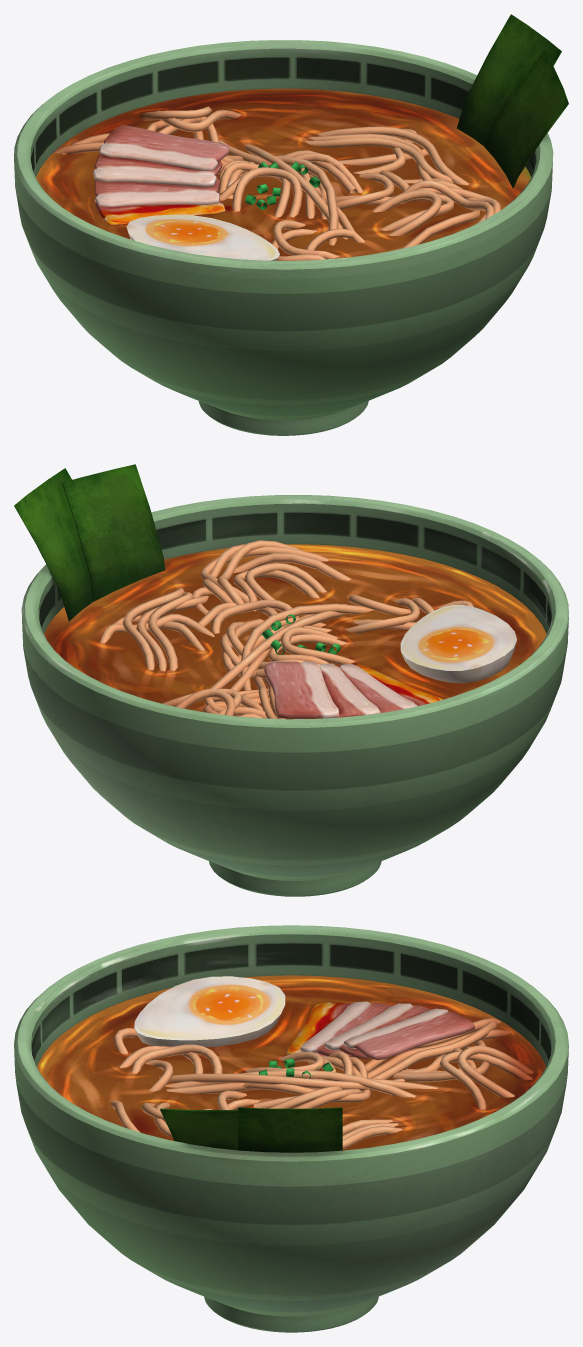
The model's file is Ramen.glb.
The picture shows the model from 3 angles, top to bottom: view 1: azimuth 30°, elevation 25°; view 2: azimuth 150°, elevation 25°; view 3: azimuth 270°, elevation 25°; orthographic projection. The views are drawn at different scales.
Parts seen in each view (by area): view 1: model_0; view 2: model_0; view 3: model_0.
Part boxes in pixels (<box>): model_0: <box>14,14,568,435</box>; model_0: <box>14,464,568,896</box>; model_0: <box>14,925,568,1332</box>.
Bounding box in the file's own units: 0.4503 × 0.2711 × 0.4313.
Materials: 1 (1 with a texture image).
